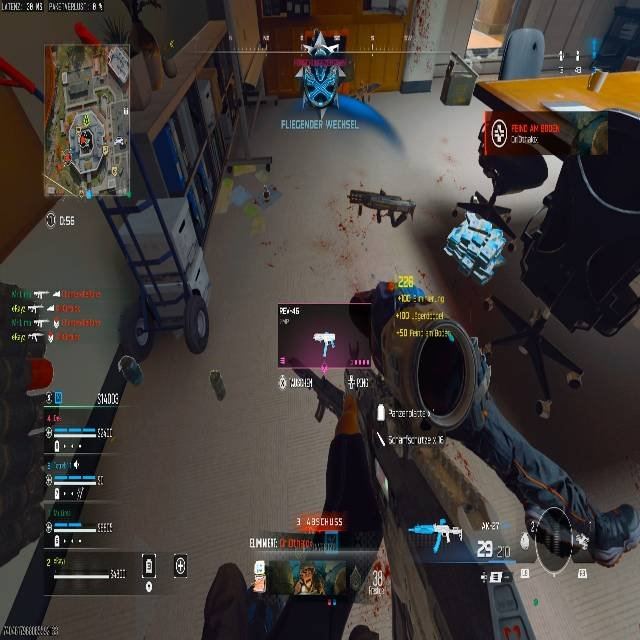head: (369, 316, 493, 431)
player: (296, 27, 348, 124)
